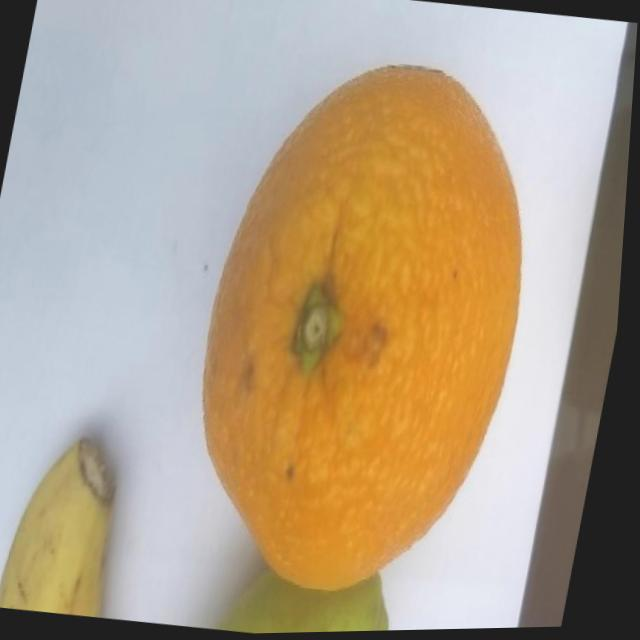Banana: (0, 429, 145, 620)
Orange: (163, 37, 573, 619)
